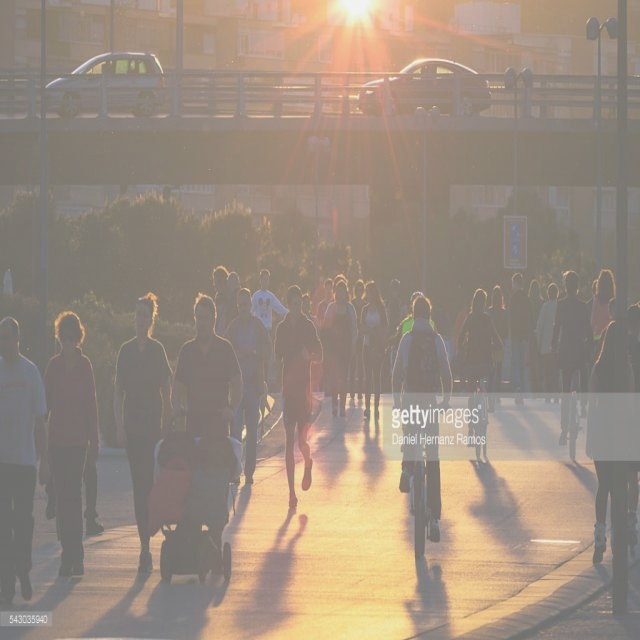pessoa: (460, 399, 596, 572), (170, 290, 244, 577), (112, 290, 174, 576), (41, 308, 101, 581), (390, 292, 454, 544), (0, 313, 53, 609), (584, 318, 638, 568), (273, 282, 324, 510), (220, 286, 274, 487), (237, 502, 313, 639), (148, 434, 238, 538), (455, 285, 505, 449), (393, 290, 438, 455), (551, 268, 590, 448), (36, 440, 104, 540), (312, 415, 389, 489), (322, 278, 359, 418), (394, 554, 454, 640), (622, 300, 640, 560), (358, 278, 391, 419), (250, 267, 290, 383), (504, 270, 534, 406), (588, 268, 618, 393), (535, 282, 563, 406), (486, 284, 508, 406), (314, 277, 334, 392), (349, 280, 368, 400), (526, 278, 546, 392), (586, 276, 616, 344), (381, 277, 408, 336), (212, 264, 232, 334), (224, 270, 242, 330), (300, 292, 318, 334), (328, 273, 350, 303), (416, 64, 432, 88), (158, 182, 174, 206), (571, 364, 580, 404), (115, 178, 128, 202), (558, 272, 568, 298), (97, 61, 109, 75)
